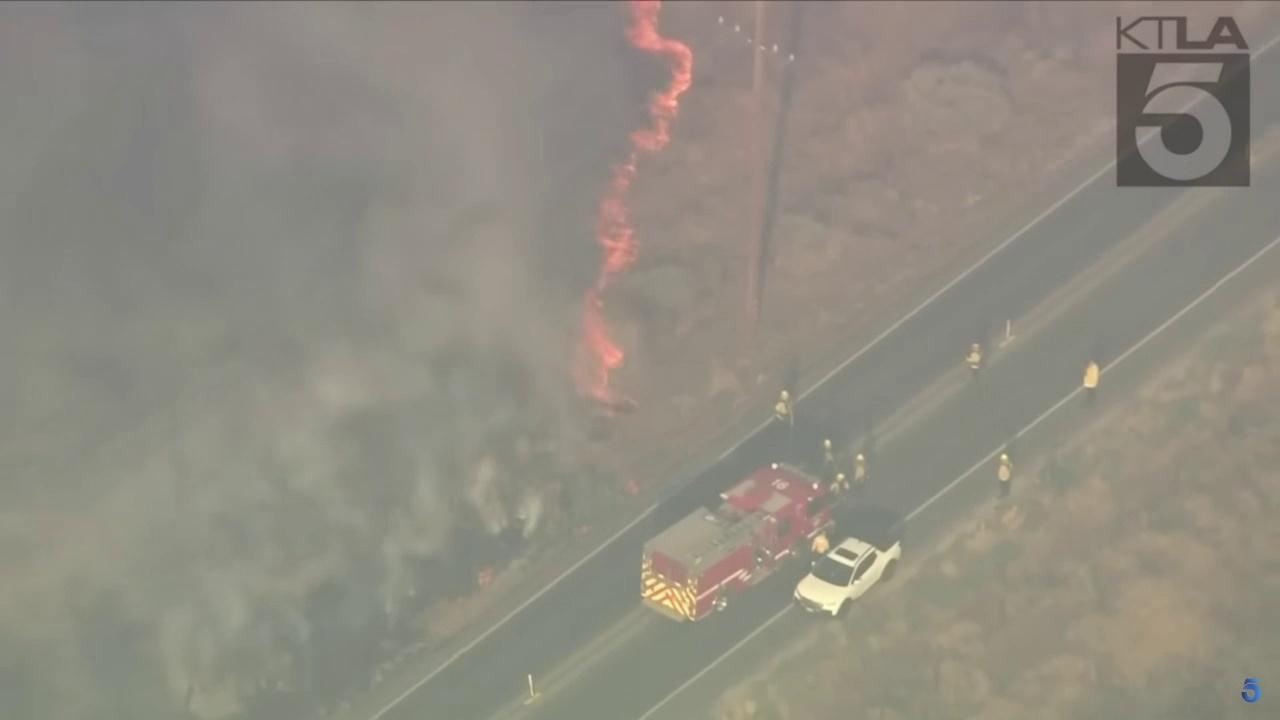fire: (569, 0, 696, 411)
smoke: (0, 0, 668, 720)
